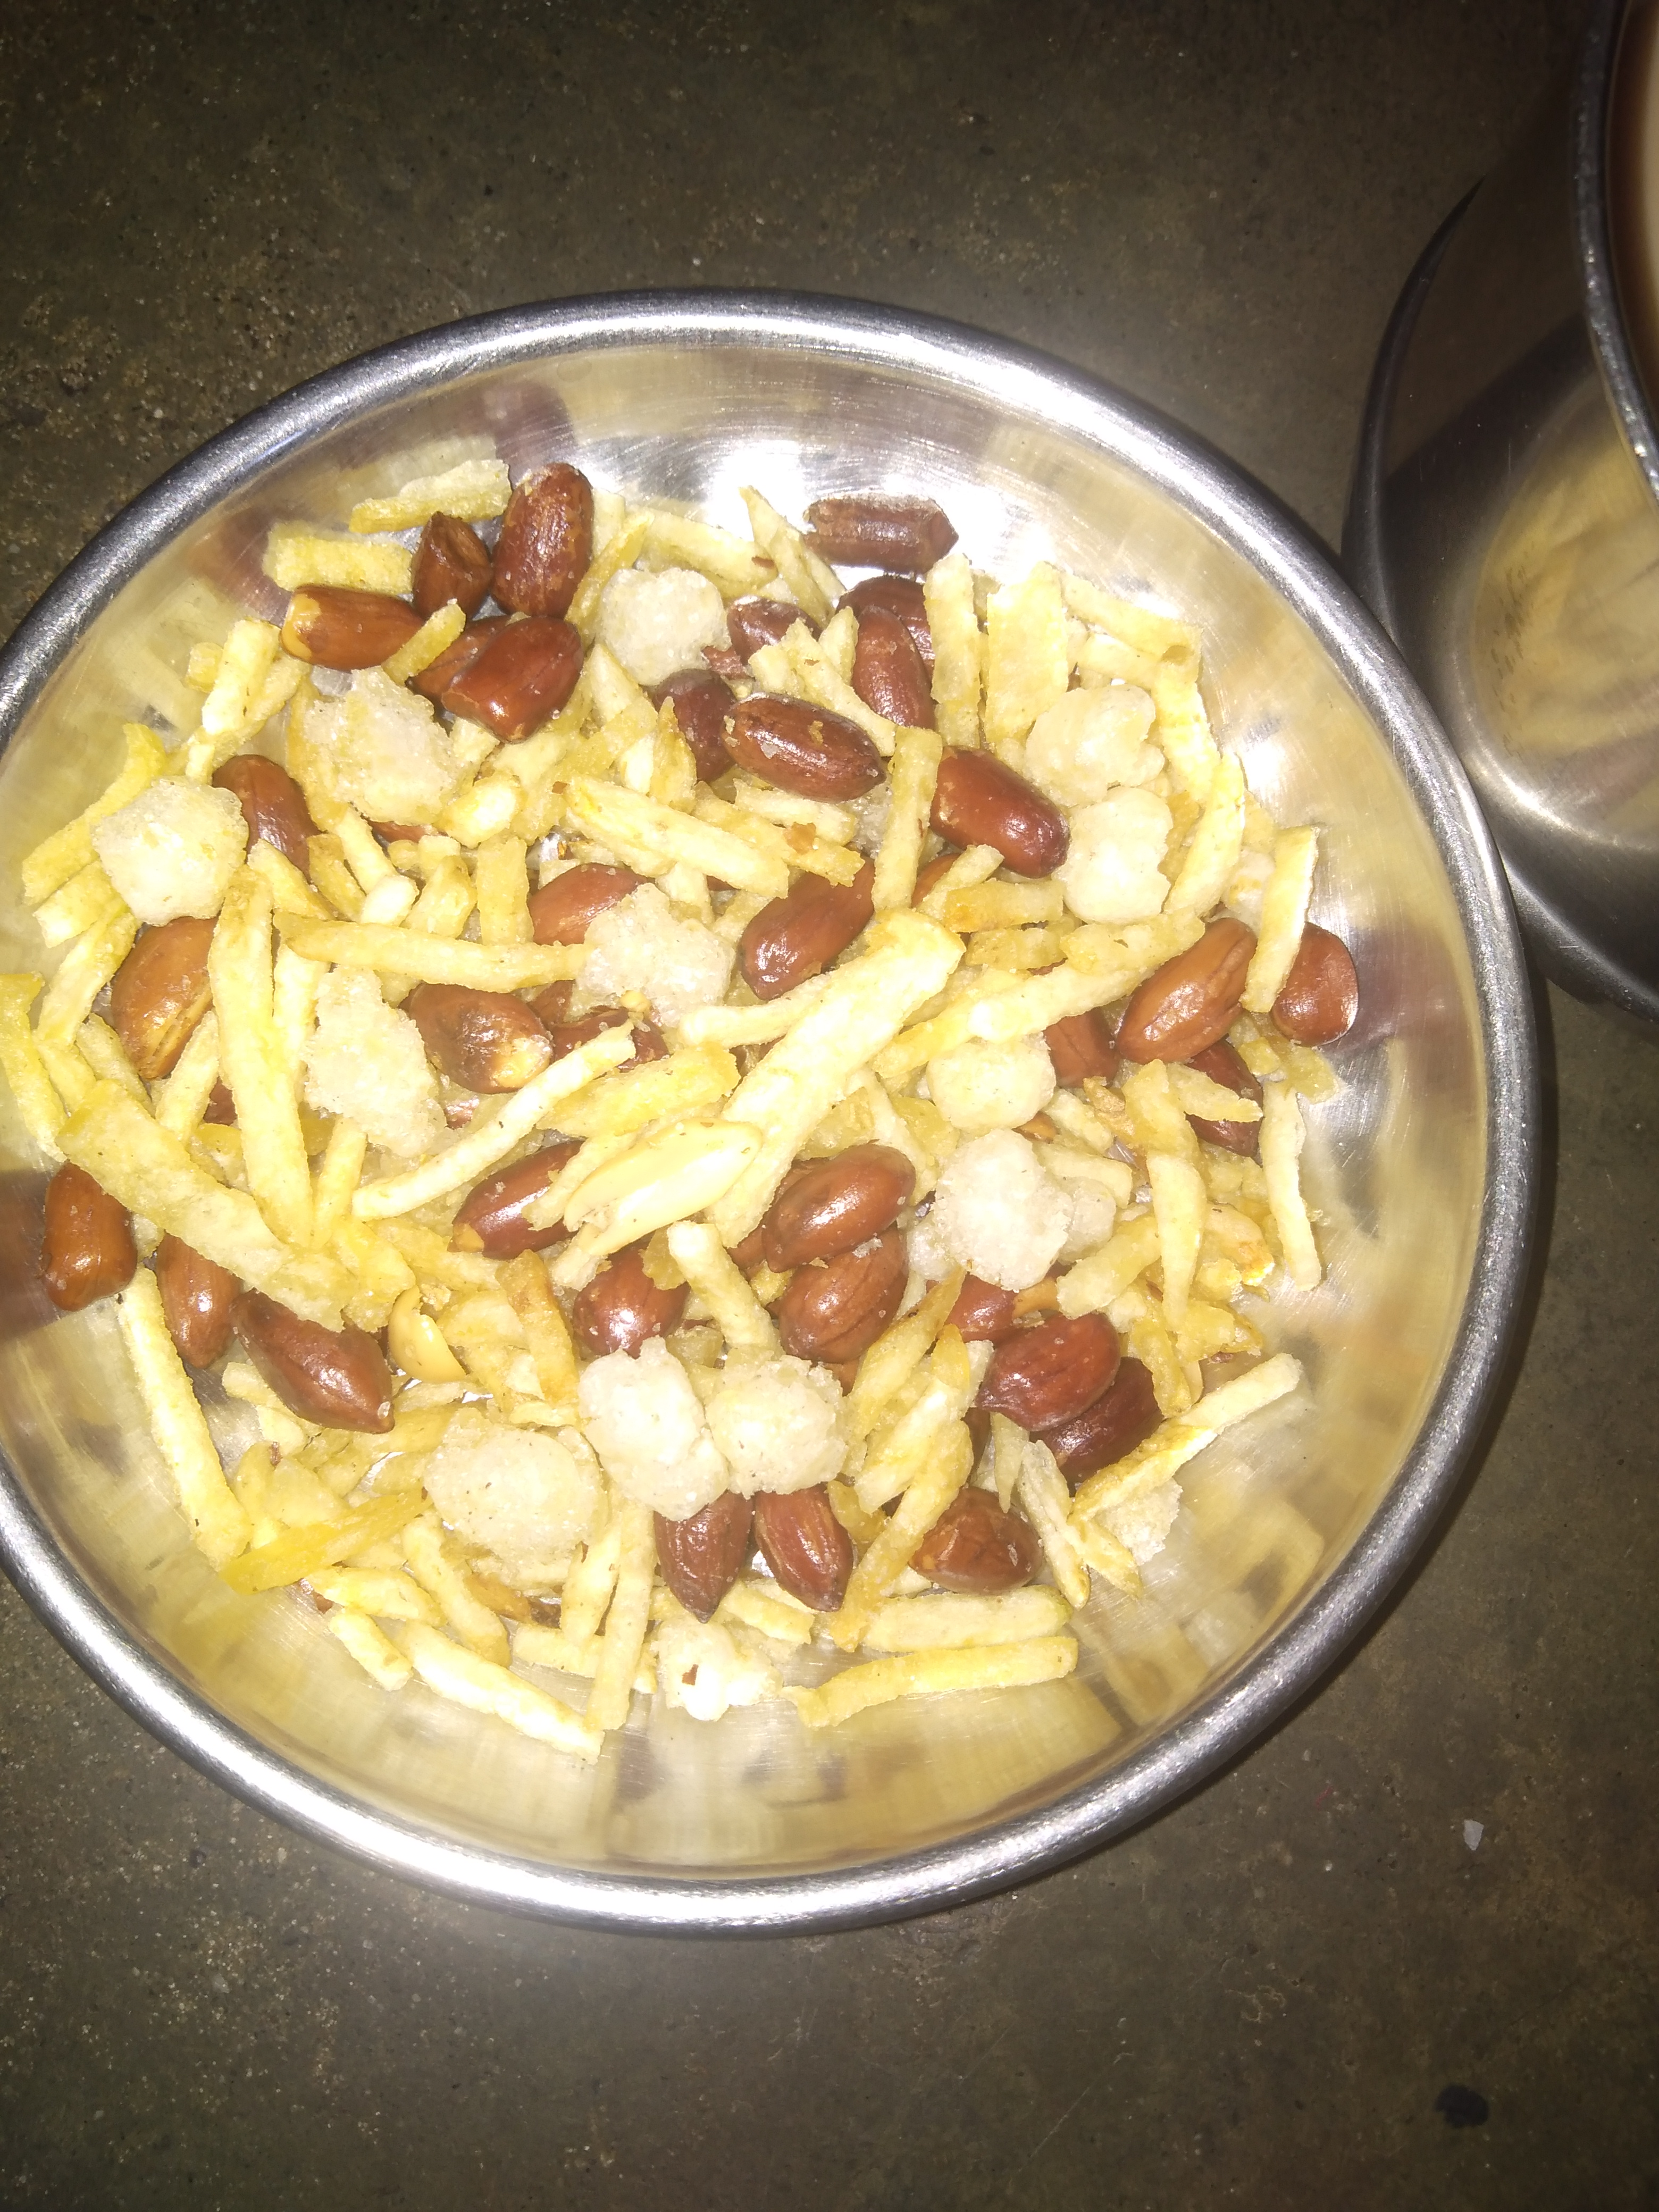food: (0, 442, 1364, 1768)
